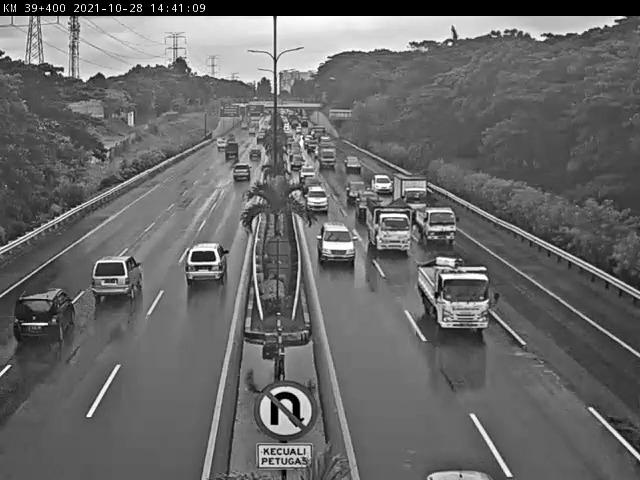car: (316, 222, 357, 264), (305, 186, 329, 213), (357, 191, 383, 215)
mid truck: (417, 257, 491, 332), (13, 286, 76, 346), (364, 203, 413, 255), (90, 256, 143, 301), (184, 243, 228, 284), (417, 204, 457, 244), (393, 175, 429, 215)
